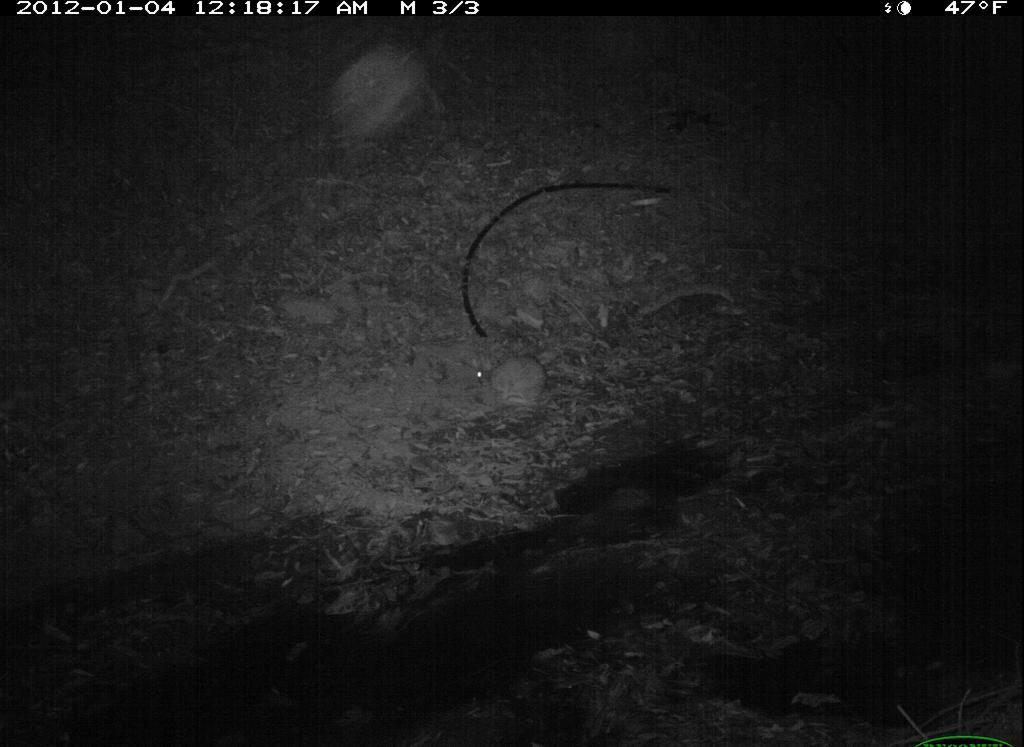rabbit: (465, 346, 561, 411)
